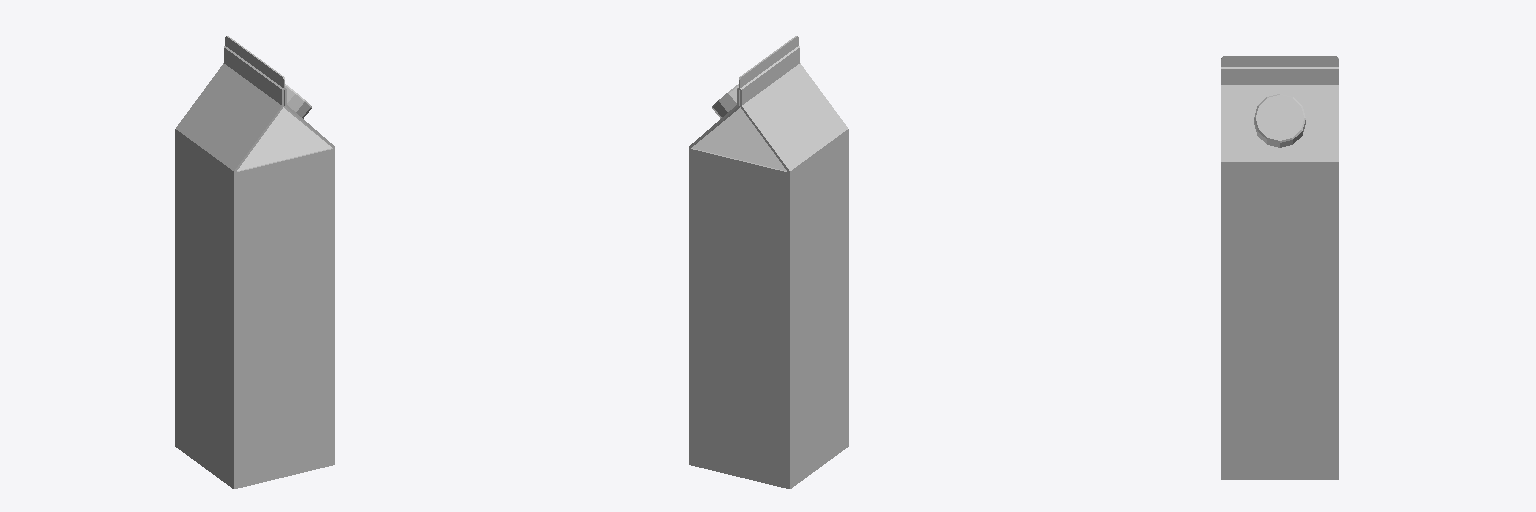
3 views of the same model, side by side, from view 1: azimuth 30°, elevation 25°; view 2: azimuth 150°, elevation 25°; view 3: azimuth 270°, elevation 25° (orthographic).
Visible parts, largest first — view 1: Tetra_Rex; view 2: Tetra_Rex; view 3: Tetra_Rex.
Boxes of the visible parts, x1,y1,x2,y2 form: Tetra_Rex: [175, 36, 334, 488]; Tetra_Rex: [689, 36, 848, 488]; Tetra_Rex: [1221, 56, 1338, 479].
Size of the model in its own units: 0.0683 by 0.2538 by 0.0675.